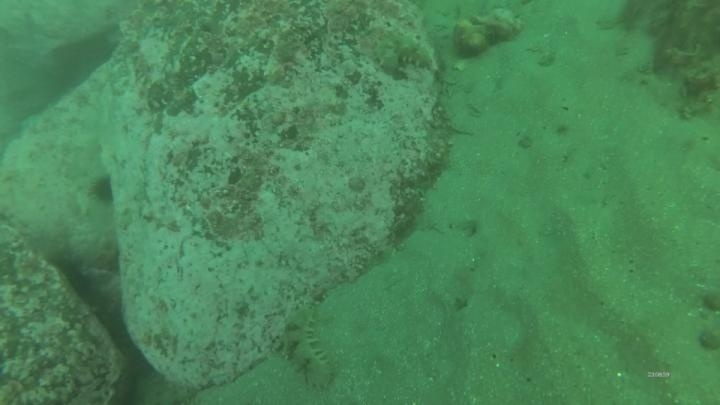echinus: (87, 173, 117, 207)
holothurian: (279, 303, 337, 389), (371, 29, 440, 76)
